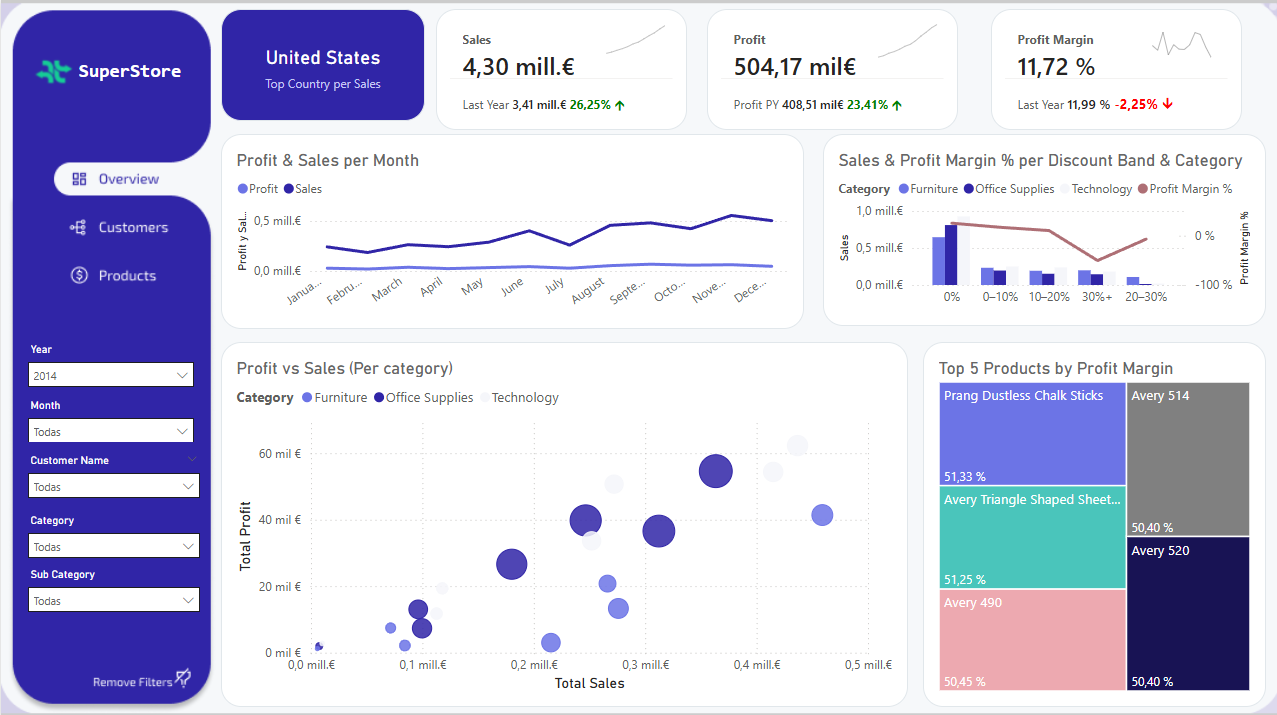

What the dashboard file says about the page in this screenshot:
{"tool":"powerbi","page":{"name":"Main","canvas":[1280,720],"ordinal":0},"visuals":[{"type":"scatterChart","title":"Profit vs Sales (Per category)","fields":{"Y":["_Measures.Profit Sum"],"X":["_Measures.Sales Sum"],"Size":["_Measures.Sum Quantity"],"Category":["DimShipLocation.Market"],"Series":["DimProduct.Category"]},"box":[220.4,341.9,686.4,365.4],"z":0},{"type":"lineClusteredColumnComboChart","title":"Sales & Profit Margin % per Discount Band &  Category","fields":{"Category":["FactSuperStoreOrders.col Discount Band"],"Y2":["_Measures.Profit Margin %"],"Y":["_Measures.Sales Sum"],"Series":["DimProduct.Category"]},"box":[822.5,134.2,442.5,192.2],"z":1000},{"type":"treemap","title":"Top 5 Products by Profit Margin","fields":{"Group":["DimProduct.Product name"],"Values":["_Measures.Profit Margin %"]},"box":[922.2,341.9,342.8,365.4],"z":2000},{"type":"lineChart","title":"Profit & Sales per Month","fields":{"Category":["DimCalendar.MonthText","DimCalendar.Year"],"Y":["_Measures.Profit Sum","_Measures.Sales Sum"]},"box":[220.4,134.2,582.2,195],"z":3000},{"type":"group","id":"g1","title":"Grupo 1","box":[31,55,157,45],"z":5000},{"type":"cardVisual","fields":{"Data":["_Measures.Profit KPI"]},"box":[706,9,251,121],"z":6000,"group":"g3"},{"type":"cardVisual","fields":{"Data":["_Measures.Profit Margin %"]},"box":[990,9,251,121],"z":6000,"group":"g4"},{"type":"slicer","title":"Market","fields":{"Values":["DimCustomer.Customer Name"]},"box":[17,448.7,192.2,51.7],"z":6000},{"type":"cardVisual","fields":{"Data":["_Measures.Sales KPI"]},"box":[435,9.3,251,120.7],"z":7000,"group":"g2"},{"type":"slicer","title":"Year","fields":{"Values":["DimCalendar.Year"]},"box":[17,338.1,185.9,52.6],"z":7000},{"type":"slicer","title":"Year","fields":{"Values":["DimCalendar.MonthText"]},"box":[17,394.3,185.9,48.1],"z":8000},{"type":"pageNavigator","box":[45.8,154.4,143.6,152.6],"z":9000},{"type":"actionButton","box":[73,667,118,40],"z":10000},{"type":"slicer","title":"Market","fields":{"Values":["DimProduct.Category"]},"box":[17,509.5,192.2,53.5],"z":11000},{"type":"slicer","title":"Market","fields":{"Values":["DimProduct.Sub Category"]},"box":[17,563,192.2,53.5],"z":12000},{"type":"card","title":"Profit","fields":{"Values":["_Measures.Top Country per Sales"]},"box":[220,9,204,112],"z":13000},{"type":"group","id":"g2","title":"Grupo 3","box":[435,0,260,130],"z":14000},{"type":"image","box":[31,55,42,37],"z":14000,"group":"g1"},{"type":"group","id":"g3","title":"Grupo 4","box":[706,4,261,126],"z":15000},{"type":"textbox","box":[73,55,115,44],"z":15000,"group":"g1"},{"type":"lineChart","fields":{"Category":["DimCalendar.Month"],"Y":["_Measures.Sales CY"]},"box":[585,0,110,61],"z":17500,"group":"g2"},{"type":"lineChart","fields":{"Category":["DimCalendar.Month"],"Y":["_Measures.Profit CY"]},"box":[857,4,110,61],"z":17500,"group":"g3"},{"type":"lineChart","fields":{"Category":["DimCalendar.Month"],"Y":["_Measures.Profit Margin %"]},"box":[1131,9,110,61],"z":17500,"group":"g4"},{"type":"group","id":"g4","title":"Grupo 2","box":[990,9,251,121],"z":17501},{"type":"shape","box":[220,5,1038,130],"z":19002}]}

Visuals, with their boxes in screenshot pixels (x1, y1, x2, y2), scaled from the page's 1280x720 canvas onto the 1277x715 screenshot:
"Profit vs Sales (Per category)" scatterChart: rect(220, 340, 905, 702)
"Sales & Profit Margin % per Discount Band &  Category" lineClusteredColumnComboChart: rect(821, 133, 1262, 324)
"Top 5 Products by Profit Margin" treemap: rect(920, 340, 1262, 702)
"Profit & Sales per Month" lineChart: rect(220, 133, 801, 327)
"Grupo 1" group: rect(31, 55, 188, 99)
cardVisual - _Measures.Profit KPI: rect(704, 9, 955, 129)
cardVisual - _Measures.Profit Margin %: rect(988, 9, 1238, 129)
"Market" slicer: rect(17, 446, 209, 497)
cardVisual - _Measures.Sales KPI: rect(434, 9, 684, 129)
"Year" slicer: rect(17, 336, 202, 388)
"Year" slicer: rect(17, 392, 202, 439)
pageNavigator: rect(46, 153, 189, 305)
actionButton: rect(73, 662, 191, 702)
"Market" slicer: rect(17, 506, 209, 559)
"Market" slicer: rect(17, 559, 209, 612)
"Profit" card: rect(219, 9, 423, 120)
"Grupo 3" group: rect(434, 0, 693, 129)
image: rect(31, 55, 73, 91)
"Grupo 4" group: rect(704, 4, 965, 129)
textbox: rect(73, 55, 188, 98)
lineChart - DimCalendar.Month x _Measures.Sales CY: rect(584, 0, 693, 61)
lineChart - DimCalendar.Month x _Measures.Profit CY: rect(855, 4, 965, 65)
lineChart - DimCalendar.Month x _Measures.Profit Margin %: rect(1128, 9, 1238, 70)
"Grupo 2" group: rect(988, 9, 1238, 129)
shape: rect(219, 5, 1255, 134)
